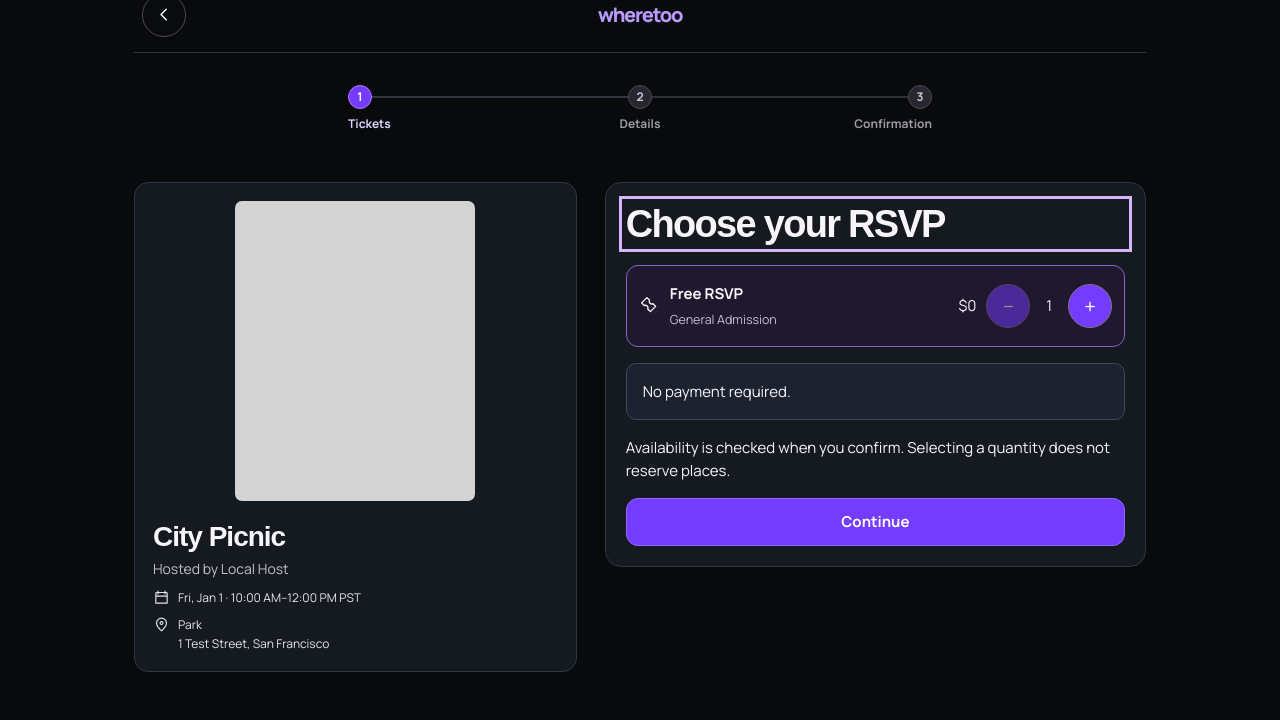
Test: invalid contact never creates a request
(page scrolled)
Click the button "Continue".
click(875, 522)  # box left=626, top=498, right=1125, bottom=546
(page scrolled)
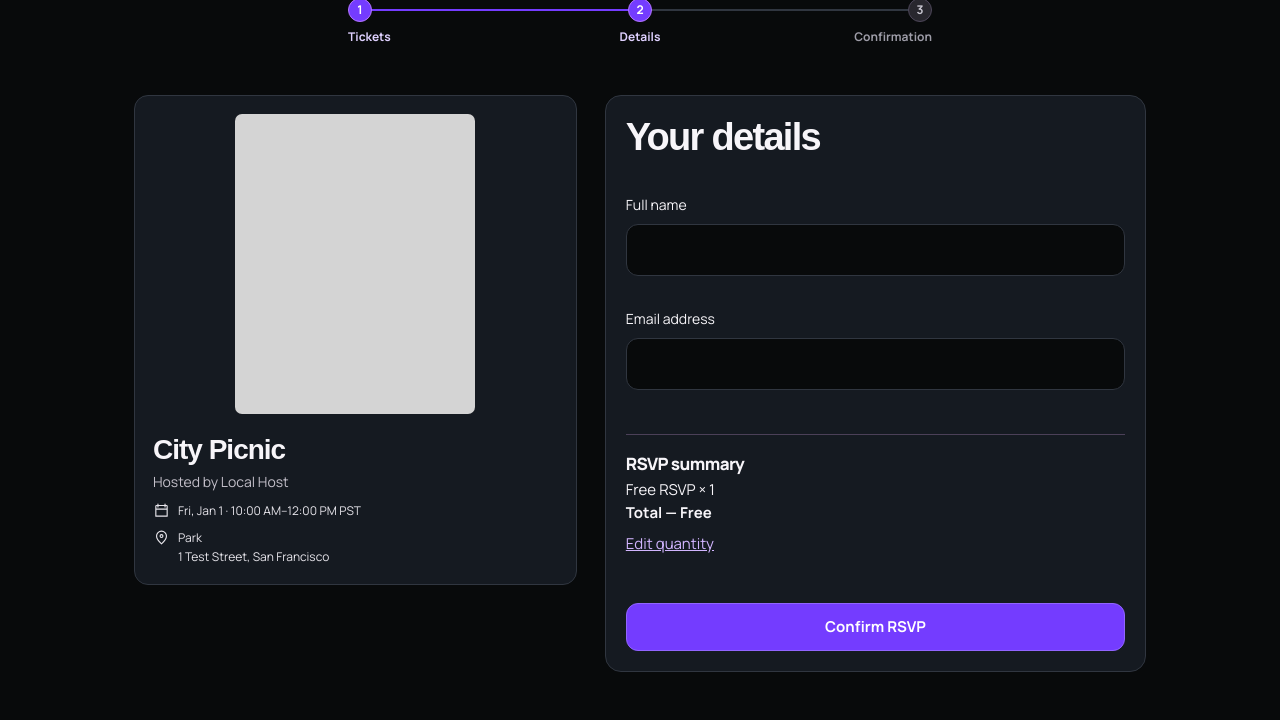
Click the button "Confirm RSVP".
click(875, 627)  # box left=626, top=603, right=1125, bottom=651
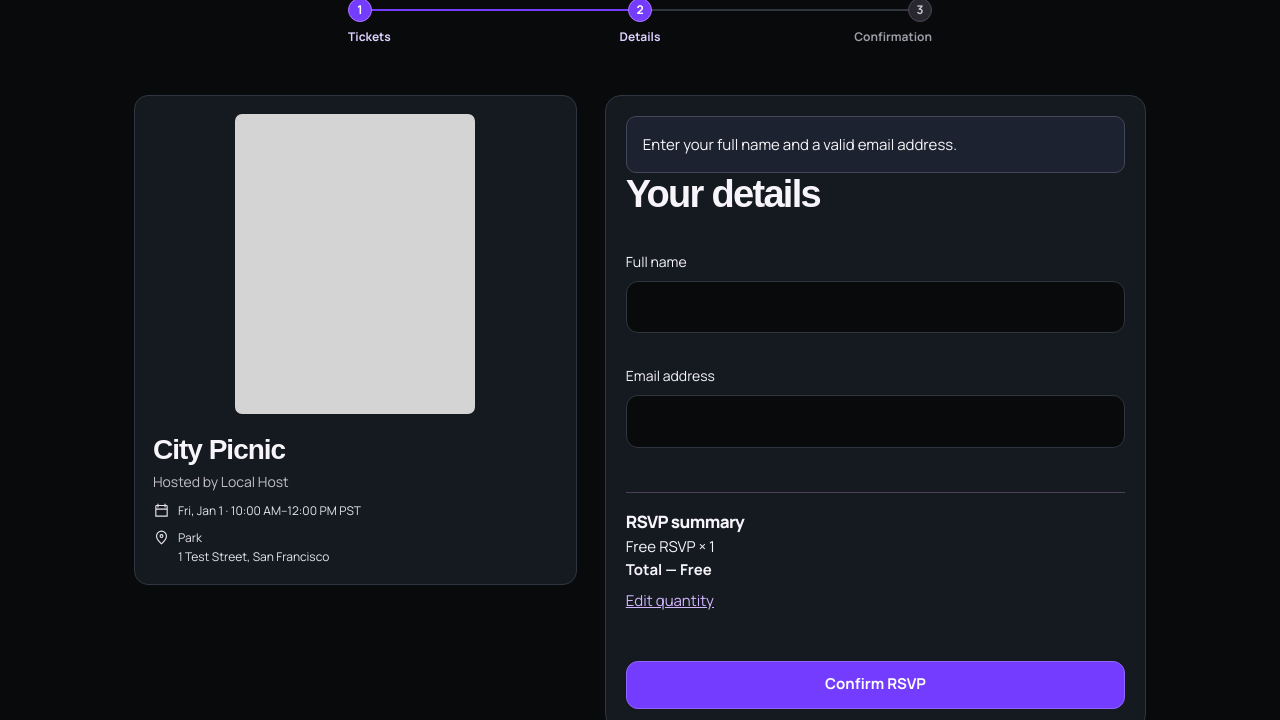
Expected: the message "Enter your full name and a valid email address." is shown, left=626, top=116, right=1125, bottom=173
